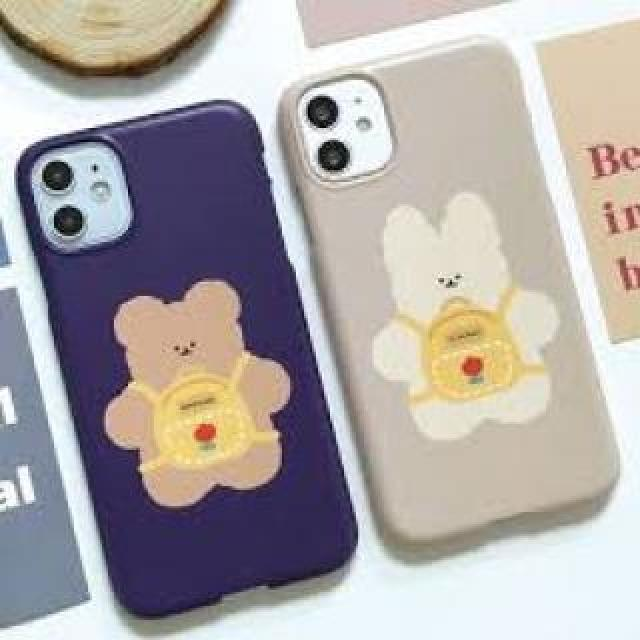smart phone: (5, 82, 330, 615), (280, 25, 565, 600)
